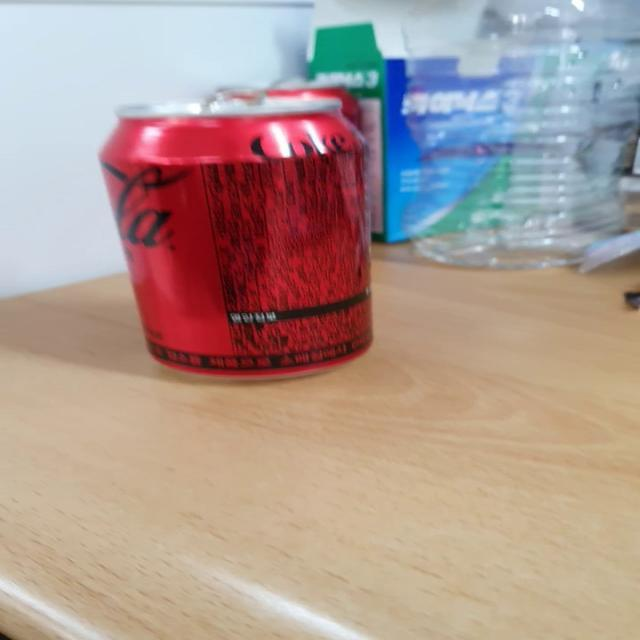coca-cola: (77, 95, 420, 392)
